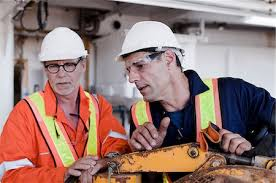Person_wearing_helmet: (109, 16, 183, 75), (36, 21, 83, 72)
